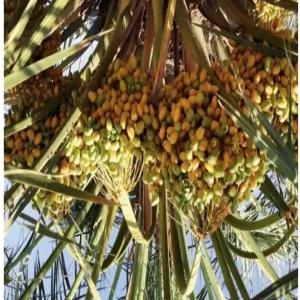palm tree: (3, 0, 297, 298)
